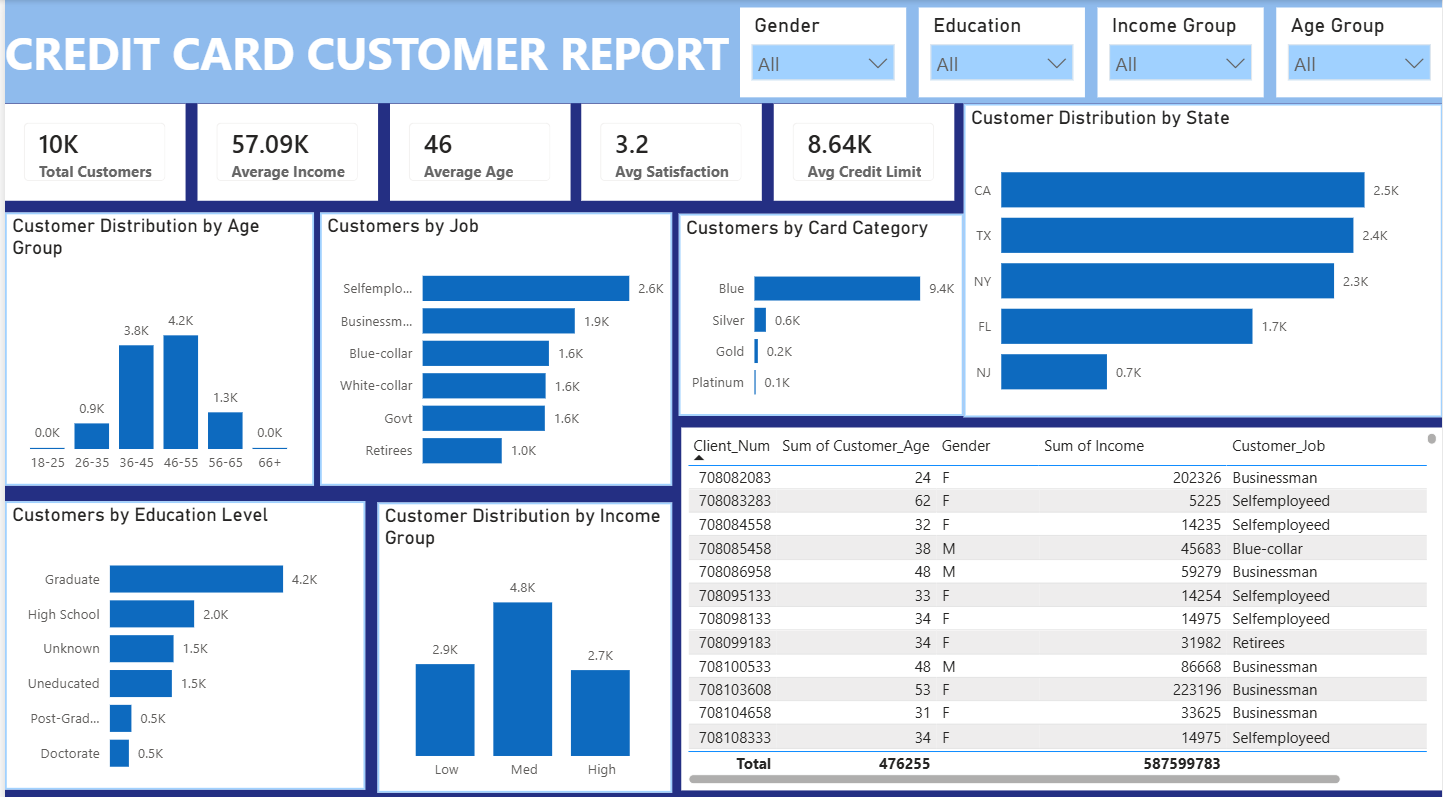

What the dashboard file says about the page in this screenshot:
{"tool":"powerbi","page":{"name":"CREDIT CARD CUSTOMER REPORT       ","canvas":[1280,720],"ordinal":0},"visuals":[{"type":"shape","title":"CREDIT CARD CUSTOMER REPORT       ","box":[0,0,1280.2,91.9],"z":0},{"type":"slicer","fields":{"Values":["DimCustomer.Gender"]},"box":[654.7,6.4,147.7,80.2],"z":504},{"type":"slicer","fields":{"Values":["DimCustomer.Education_Level"]},"box":[814,6.4,147.7,80.2],"z":1004},{"type":"slicer","fields":{"Values":["DimCustomer.Income Group"]},"box":[973.3,6.4,147.7,80.2],"z":1504},{"type":"slicer","fields":{"Values":["DimCustomer.Age Group"]},"box":[1132.3,6.4,147.7,80.2],"z":2004},{"type":"cardVisual","fields":{"Data":["DimCustomer.Total Customers"]},"box":[0,91.9,160.5,86],"z":2005},{"type":"cardVisual","fields":{"Data":["DimCustomer.Average Income"]},"box":[171.2,91.9,160.5,86],"z":2006},{"type":"cardVisual","fields":{"Data":["DimCustomer.Average Age"]},"box":[342.4,91.9,160.5,86],"z":2007},{"type":"cardVisual","fields":{"Data":["FactCreditCard.Average Satisfaction"]},"box":[513.6,91.9,160.5,86],"z":2008},{"type":"cardVisual","fields":{"Data":["FactCreditCard.Avg Credit Limit"]},"box":[684.7,91.9,160.5,86],"z":2009},{"type":"clusteredColumnChart","title":"Customer Distribution by Age Group","fields":{"Category":["DimCustomer.Age Group"],"Y":["DimCustomer.Total Customers"]},"box":[0,189.5,275.6,243],"z":2010},{"type":"clusteredColumnChart","title":"Customer Distribution by Income Group","fields":{"Category":["DimCustomer.Income Group"],"Y":["DimCustomer.Total Customers"]},"box":[331.4,447.7,262.8,258.1],"z":2011},{"type":"barChart","title":"Customers by Job","fields":{"Category":["DimCustomer.Customer_Job"],"Y":["DimCustomer.Total Customers"]},"box":[280.2,189.5,314,243],"z":2012},{"type":"barChart","title":"Customers by Education Level","fields":{"Y":["DimCustomer.Total Customers"],"Category":["DimCustomer.Education_Level"]},"box":[0,446.5,320.9,257],"z":2013},{"type":"barChart","title":"Customers by Card Category","fields":{"Y":["DimCustomer.Total Customers"],"Category":["FactCreditCard.Card_Category"]},"box":[600,190.7,253.5,180.2],"z":2014},{"type":"barChart","title":"Customer Distribution by State","fields":{"Category":["DimCustomer.state_cd"],"Y":["DimCustomer.Total Customers"]},"box":[853.5,91.9,426.7,279.1],"z":2015},{"type":"tableEx","fields":{"Values":["DimCustomer.Client_Num","Sum(DimCustomer.Customer_Age)","DimCustomer.Gender","Sum(DimCustomer.Income)","DimCustomer.Customer_Job"]},"box":[602.2,380.7,677.9,322.8],"z":2016}]}

Visuals, with their boxes in screenshot pixels (x1, y1, x2, y2), scaled from the page's 1280x720 canvas onto the 1443x797 screenshot:
"CREDIT CARD CUSTOMER REPORT       " shape: box=[0, 0, 1442, 102]
slicer - DimCustomer.Gender: box=[738, 7, 905, 96]
slicer - DimCustomer.Education_Level: box=[918, 7, 1084, 96]
slicer - DimCustomer.Income Group: box=[1097, 7, 1264, 96]
slicer - DimCustomer.Age Group: box=[1276, 7, 1442, 96]
cardVisual - DimCustomer.Total Customers: box=[0, 102, 181, 197]
cardVisual - DimCustomer.Average Income: box=[193, 102, 374, 197]
cardVisual - DimCustomer.Average Age: box=[386, 102, 567, 197]
cardVisual - FactCreditCard.Average Satisfaction: box=[579, 102, 760, 197]
cardVisual - FactCreditCard.Avg Credit Limit: box=[772, 102, 953, 197]
"Customer Distribution by Age Group" clusteredColumnChart: box=[0, 210, 311, 479]
"Customer Distribution by Income Group" clusteredColumnChart: box=[374, 496, 670, 781]
"Customers by Job" barChart: box=[316, 210, 670, 479]
"Customers by Education Level" barChart: box=[0, 494, 362, 779]
"Customers by Card Category" barChart: box=[676, 211, 962, 411]
"Customer Distribution by State" barChart: box=[962, 102, 1442, 411]
tableEx - DimCustomer.Client_Num x Sum(DimCustomer.Customer_Age): box=[679, 421, 1442, 779]
